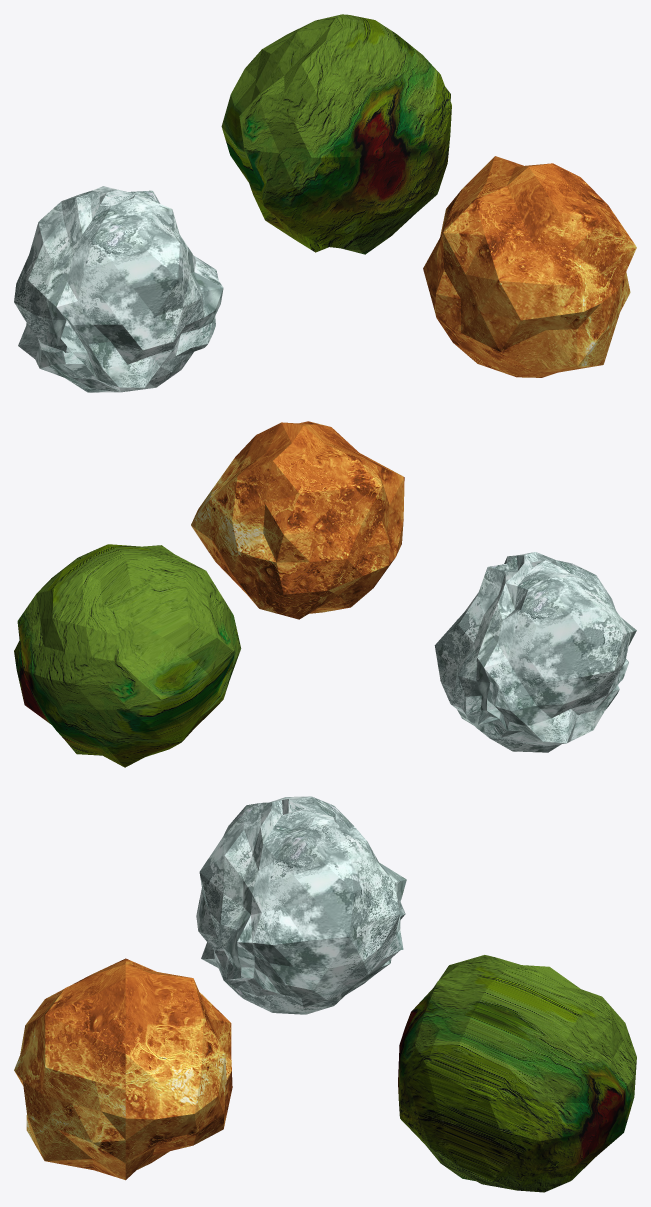
The model's file is planets.fbx.
The picture shows the model from 3 angles, top to bottom: view 1: azimuth 30°, elevation 25°; view 2: azimuth 150°, elevation 25°; view 3: azimuth 270°, elevation 25°; orthographic projection. The views are drawn at different scales.
Visible parts, largest first — view 1: Sphere_1, Sphere, Sphere_2; view 2: Sphere_1, Sphere, Sphere_2; view 3: Sphere_1, Sphere, Sphere_2.
Part boxes in pixels (box(x1,y1,x2,y2)): Sphere_1: box(221, 14, 451, 254); Sphere: box(423, 156, 636, 377); Sphere_2: box(14, 186, 223, 392); Sphere_1: box(14, 544, 241, 767); Sphere: box(191, 421, 404, 619); Sphere_2: box(434, 552, 636, 752); Sphere_1: box(398, 955, 636, 1192); Sphere: box(14, 958, 232, 1180); Sphere_2: box(196, 796, 406, 1014).
Size of the model in its own units: 584 by 225 by 582.
3 materials, 3 textured.
